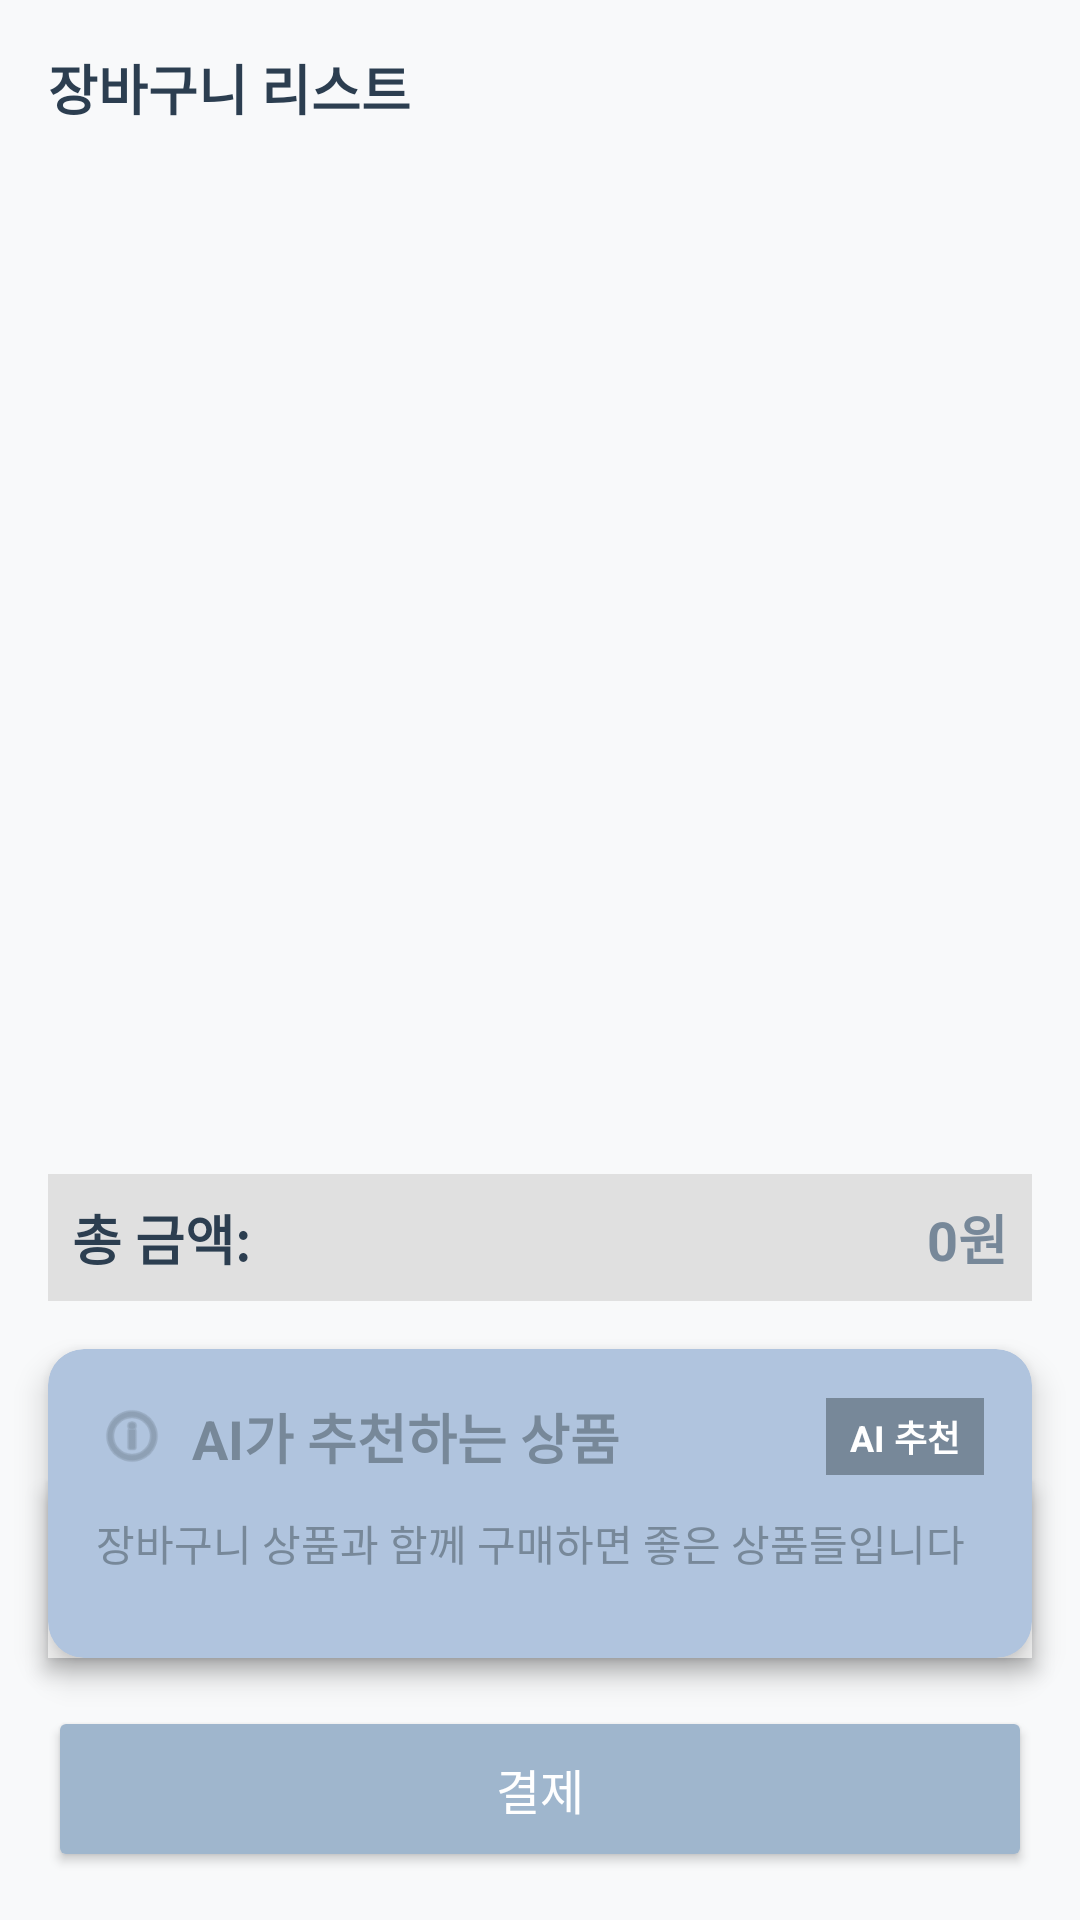

Icons on this 1080w x 1920h Android screen, each with its box as (x1, y1, x2, y2):
info details: (107, 1411, 157, 1461)
